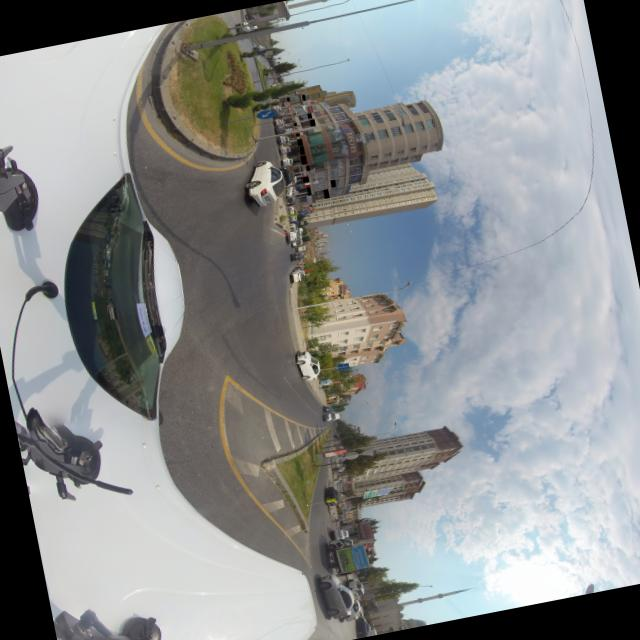SignStore: (299, 155, 307, 165), (298, 146, 304, 155), (302, 177, 309, 184), (296, 139, 302, 147), (309, 119, 315, 127), (306, 187, 311, 196), (306, 113, 312, 119), (305, 165, 310, 172), (324, 189, 327, 199), (331, 180, 334, 188), (301, 95, 305, 101), (295, 133, 299, 137), (293, 123, 296, 127), (286, 98, 289, 102)
